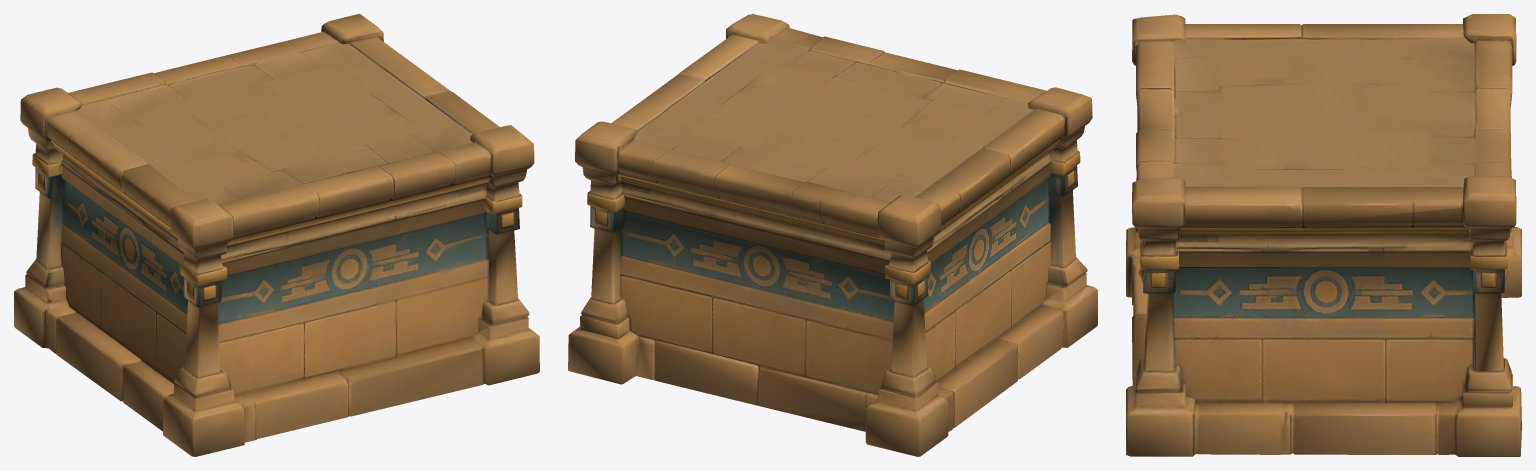
Rendered from SM_Tripo_DesertPlatformBlock.glb.
3 renders of one model, left to right at view 1: azimuth 30°, elevation 25°; view 2: azimuth 150°, elevation 25°; view 3: azimuth 270°, elevation 25°, orthographic. The views are drawn at different scales.
Parts seen in each view (by area): view 1: SM_Tripo_DesertPlatformBlock_LOD0; view 2: SM_Tripo_DesertPlatformBlock_LOD0; view 3: SM_Tripo_DesertPlatformBlock_LOD0.
Part boxes in pixels (x1,y1,x2,y2): SM_Tripo_DesertPlatformBlock_LOD0: (14,14,539,456); SM_Tripo_DesertPlatformBlock_LOD0: (568,14,1097,456); SM_Tripo_DesertPlatformBlock_LOD0: (1126,14,1521,456).
Size of the model in its own units: 4.48 by 2.86 by 3.97.
Materials: 1 (1 with a texture image).
